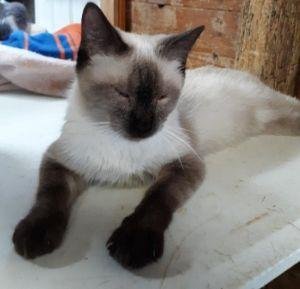siamese: (66, 1, 213, 151)
